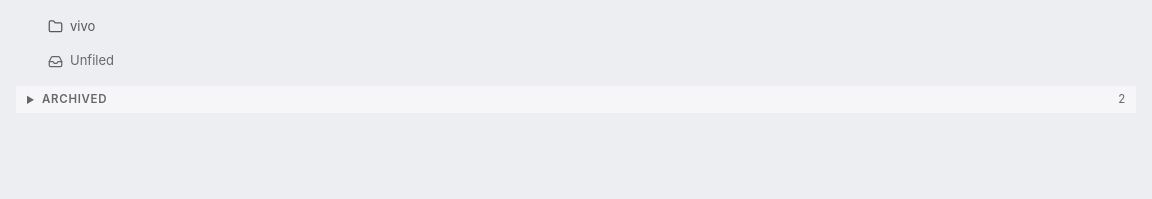
it: the document tree › keeps a whole folder on the shelf, with what it holds still inside it
The image size is (1152, 199).
Click the button "▼ Archived 2" at (75, 99), box [16, 86, 1136, 113]
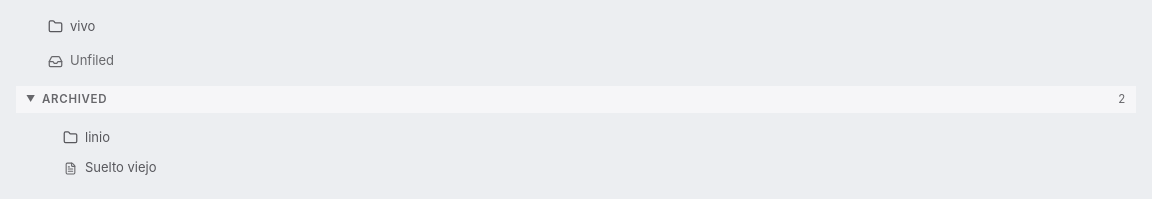
Expected: the button named "Open vivo" is shown, [46, 17, 64, 37]
Expected: the button named "Open linio" is shown, [61, 128, 79, 148]
Expected: the button "Suelto viejo" is shown, [79, 153, 1136, 183]
